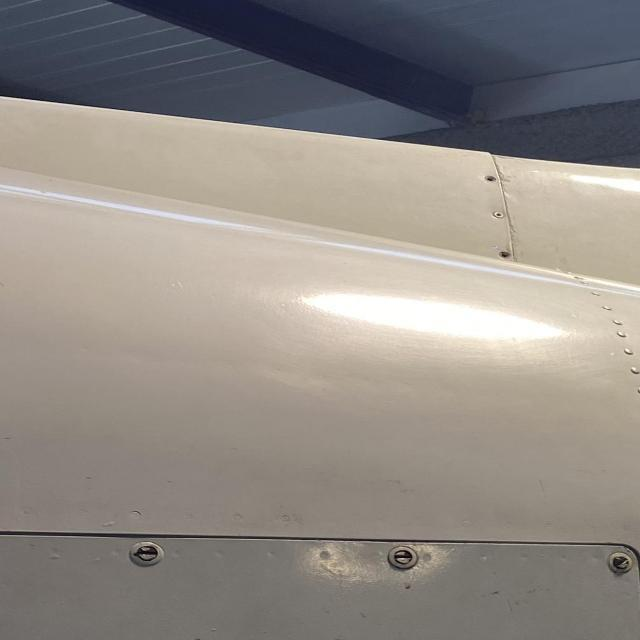Missing-head: (483, 172, 498, 184), (498, 250, 512, 260)
